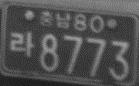0: (89, 14, 104, 34)
3: (109, 39, 130, 81)
7: (85, 36, 108, 78), (62, 34, 83, 76)
8: (39, 33, 60, 73), (73, 12, 88, 32)
라: (9, 30, 35, 58)
충남_O: (38, 9, 71, 29)
